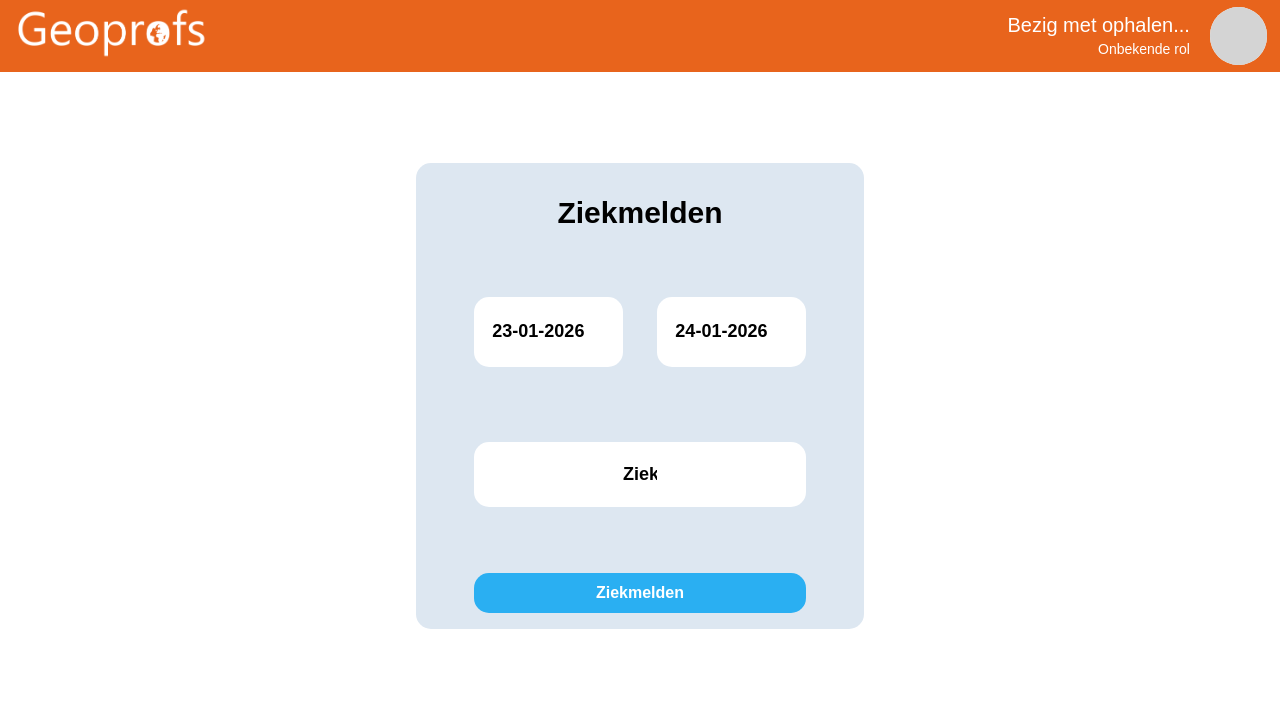
Ziekmelden E2E › gebruiker kan zich ziekmelden › knop wordt correct ingeschakeld en toont loading state
Expected: the element with test id "ziekmelden-button" is enabled
// Controleer dat de knop zichtbaar is en niet disabled
Click the button with test id "ziekmelden-button". click: (641, 593)
box: [474, 573, 807, 613]
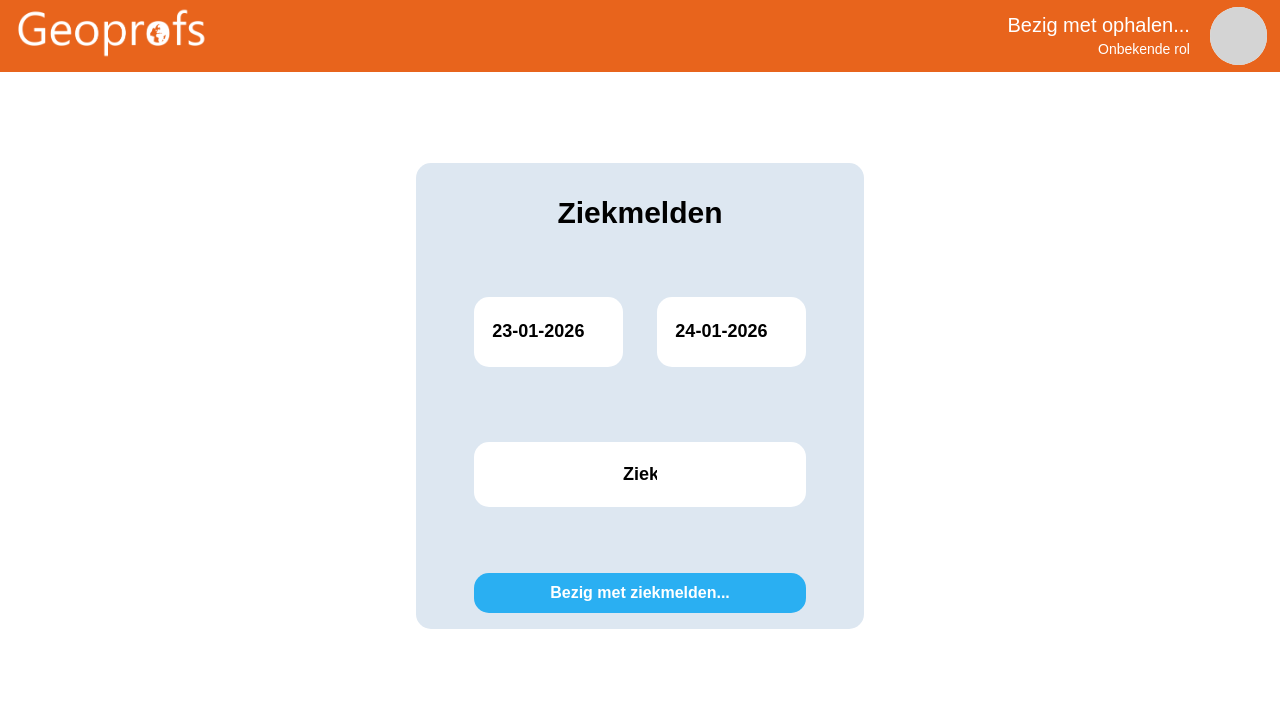
Result: the button "Bezig met ziekmelden..." is shown at [474, 573, 806, 613]
